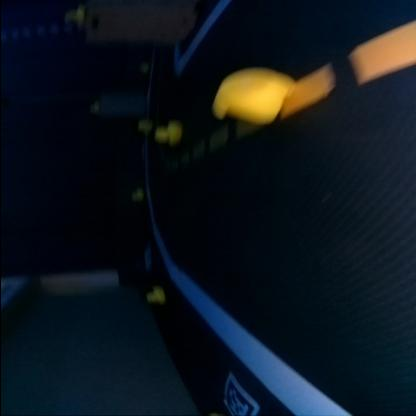Duckie: (212, 70, 284, 122), (152, 120, 180, 144), (144, 286, 164, 304), (63, 6, 82, 24), (136, 119, 148, 133), (130, 188, 142, 201), (136, 62, 146, 74)
QR code: (221, 372, 257, 414)
